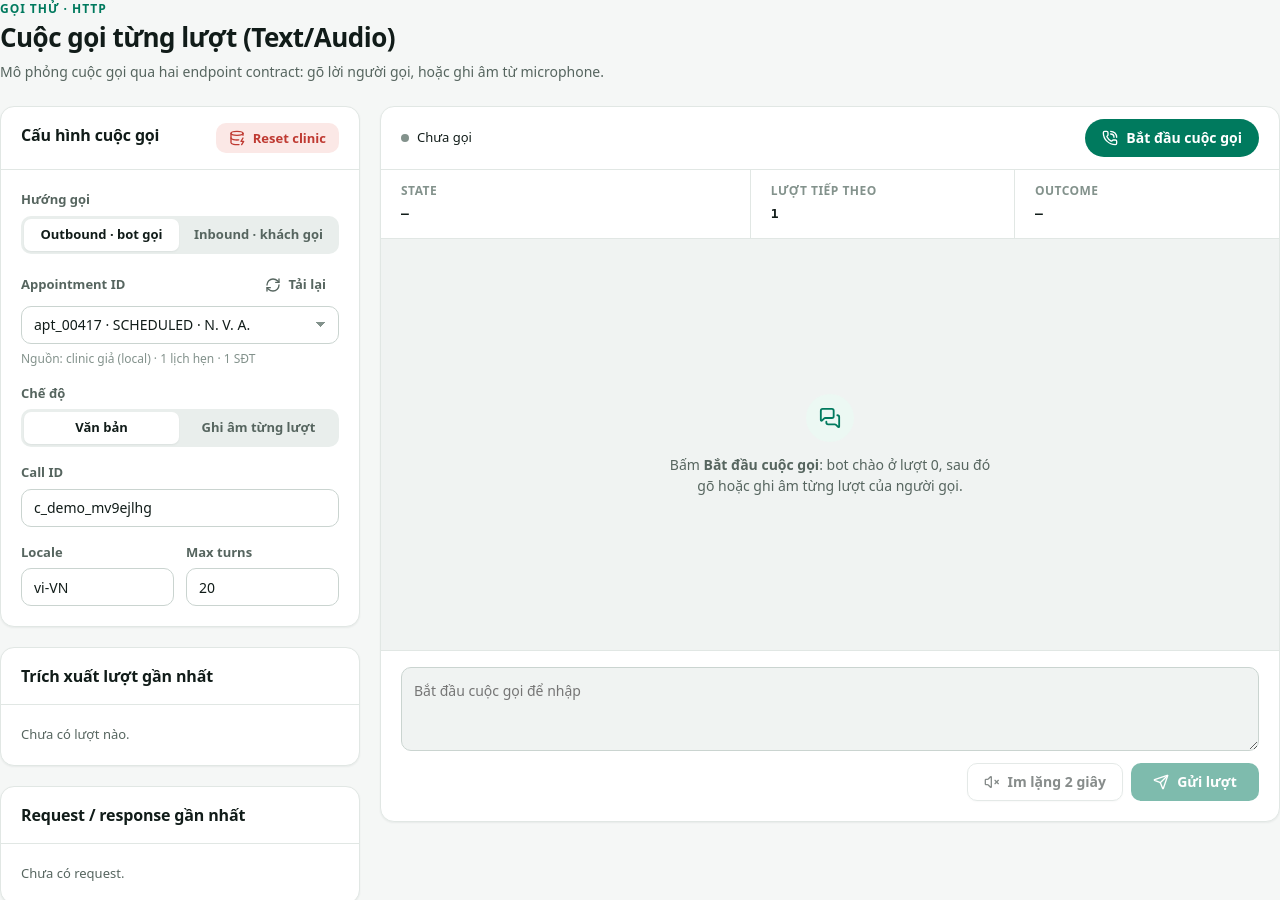
Test: CallPage › chạy trọn một cuộc gọi text: mở, gửi lượt, kết thúc với outcome
The image size is (1280, 900).
Expected: the text "Nguồn: clinic giả (local) · 1 lịch hẹn · 1 SĐT" is shown, [21,350,255,367]
Click the button "Bắt đầu cuộc gọi".
click(1172, 138)  # box [1085,119,1259,157]
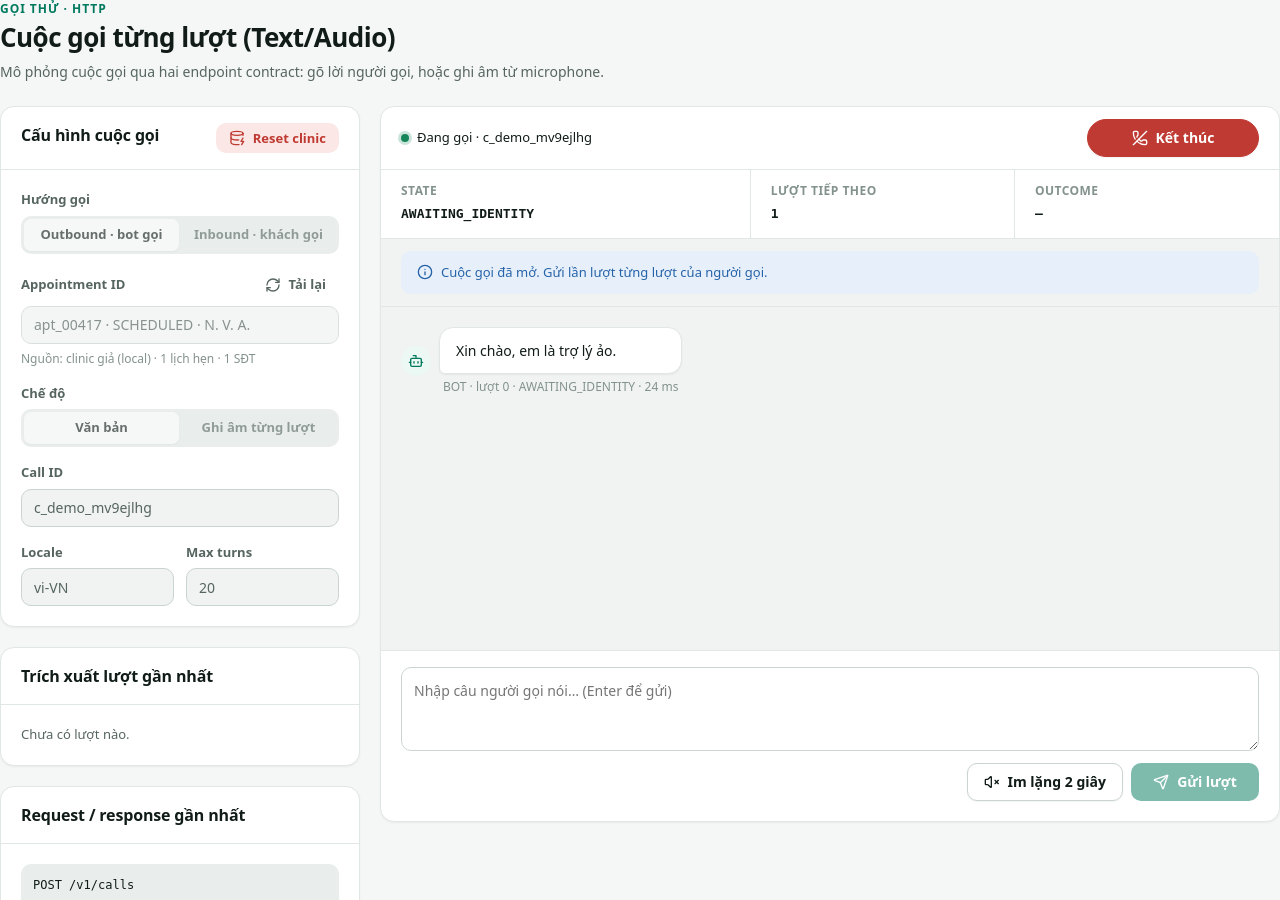
Now the text "Xin chào, em là trợ lý ảo." is shown, box [439,327,682,374]
Now the field labelled "Call ID" is disabled, box [21,489,339,527]
Type "Có, tôi đến được" into the text box named "Lời người gọi".
click(830, 709); type("Có, tôi đến được")  # box [401,667,1259,751]
Then press Enter
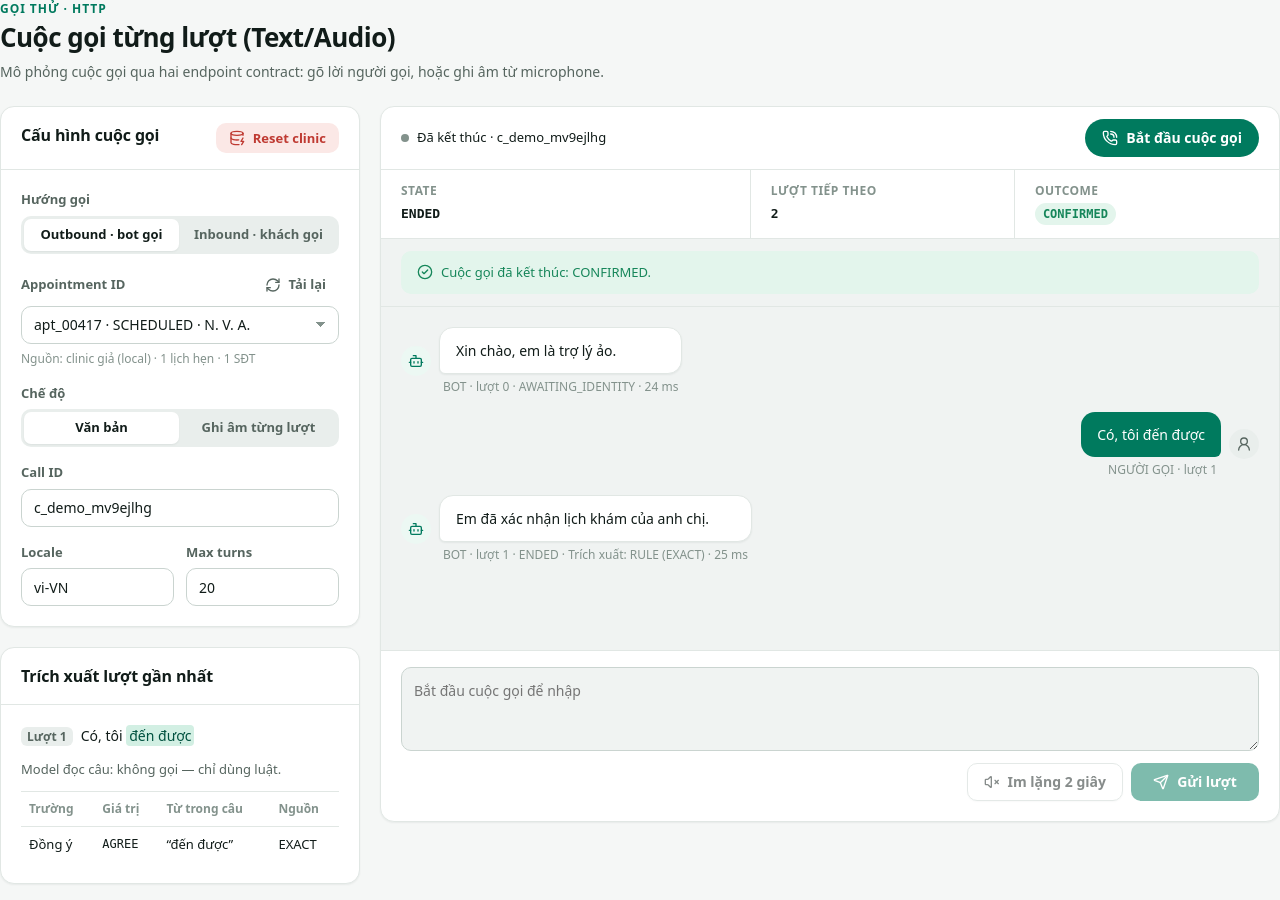
Now the text "Em đã xác nhận lịch khám của anh chị." is shown, box [439,495,752,542]
Now the text "CONFIRMED" is shown, box [1035,203,1116,225]
Now the text "Cuộc gọi đã kết thúc: CONFIRMED." is shown, box [441,263,651,282]
